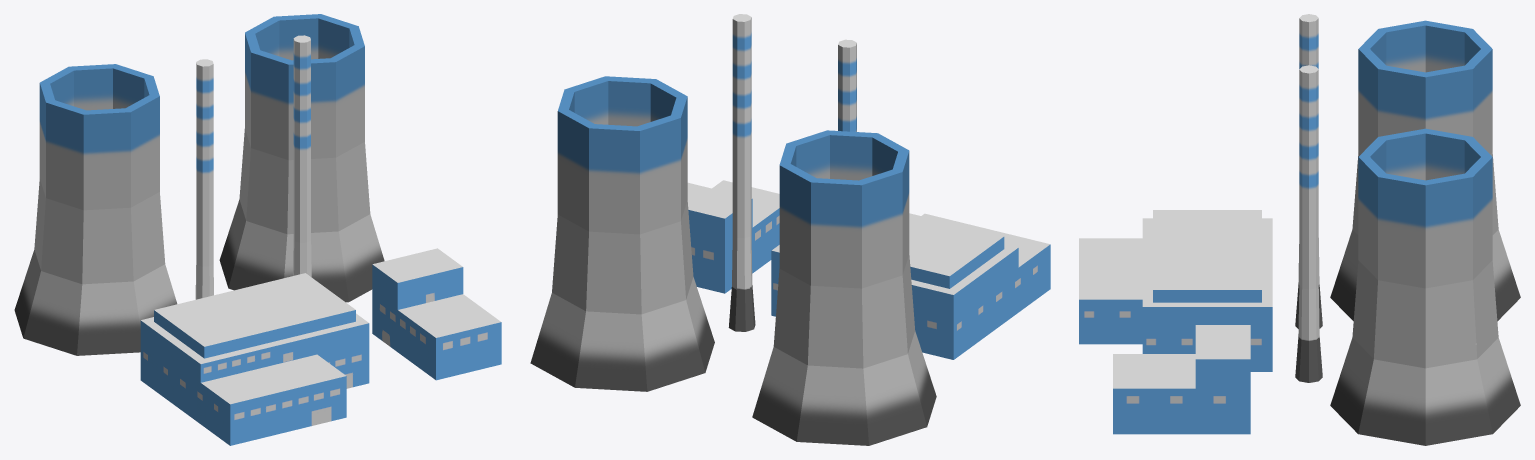
Rendered from Powerplant_noGround.fbx.
3 renders of one model, left to right at view 1: azimuth 30°, elevation 25°; view 2: azimuth 150°, elevation 25°; view 3: azimuth 270°, elevation 25°, orthographic. The views are drawn at different scales.
Parts seen in each view (by area): view 1: Powerplant; view 2: Powerplant; view 3: Powerplant.
Part boxes in pixels (x1,y1,x2,y2): Powerplant: [14, 14, 501, 445]; Powerplant: [530, 14, 1050, 445]; Powerplant: [1079, 14, 1520, 445].
Bounding box in the file's own units: 425 × 323 × 421.
